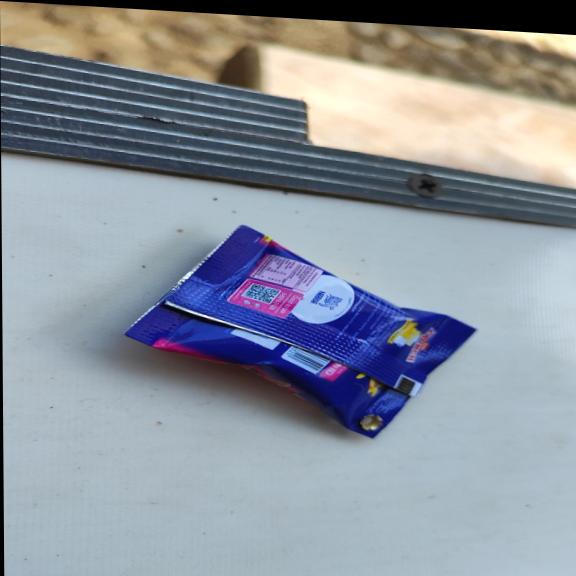Plastik: (124, 216, 478, 446)
